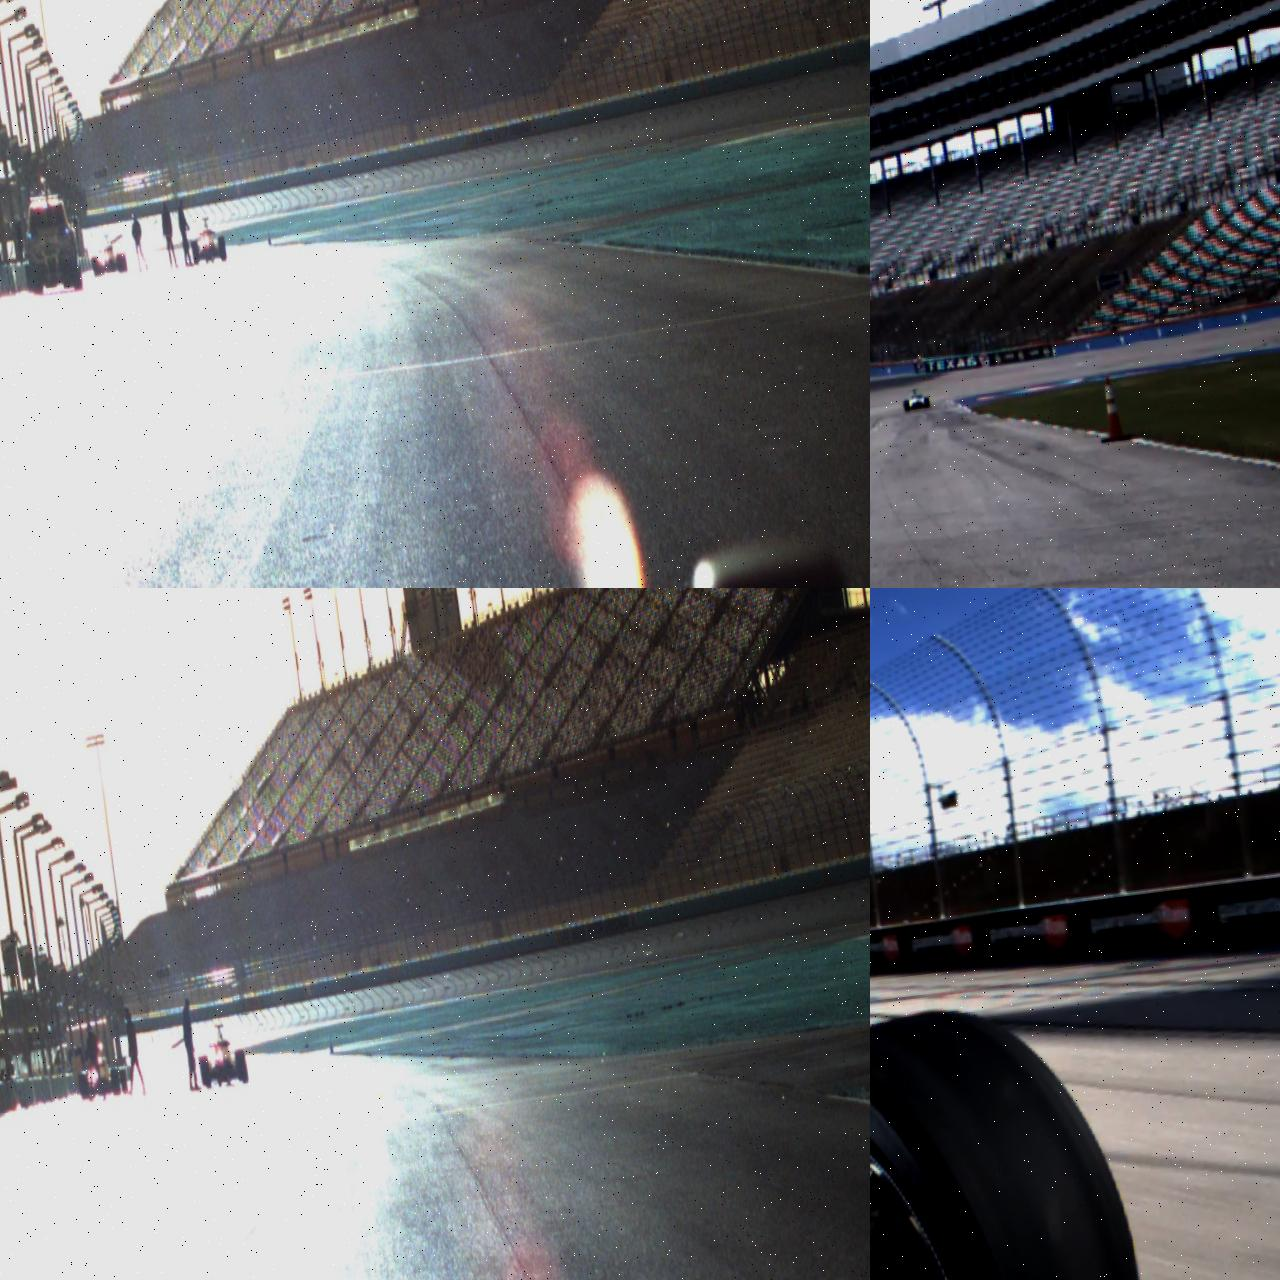AV: (195, 1022, 249, 1086), (74, 1039, 128, 1100), (188, 216, 228, 264), (89, 232, 128, 276), (901, 388, 931, 413)
Wheel: (870, 989, 1169, 1280), (235, 1048, 248, 1080), (199, 1054, 211, 1086), (78, 1070, 90, 1100), (110, 1068, 121, 1094), (116, 252, 128, 273), (191, 240, 200, 264), (218, 235, 226, 260), (120, 1068, 128, 1092), (92, 256, 100, 276), (902, 399, 911, 413), (924, 396, 930, 408)
